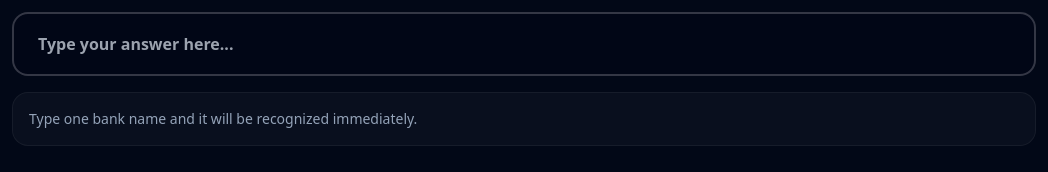
Test: QuestionRenderer bank recognition UX › keeps top-of-mind feedback neutral while the respondent is still typing
Type "KC" into the field.
click(524, 44); type("KC")  # box [12,12,1036,76]
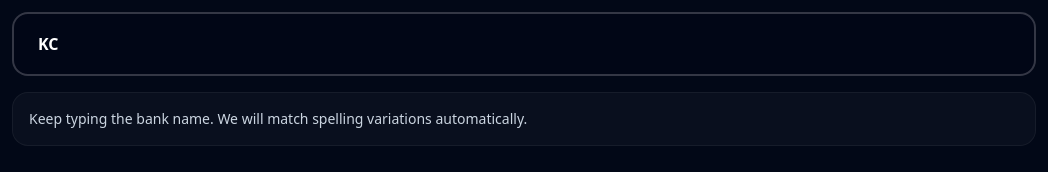
Expected: the text "Keep typing the bank name" is shown, [29,109,527,128]
